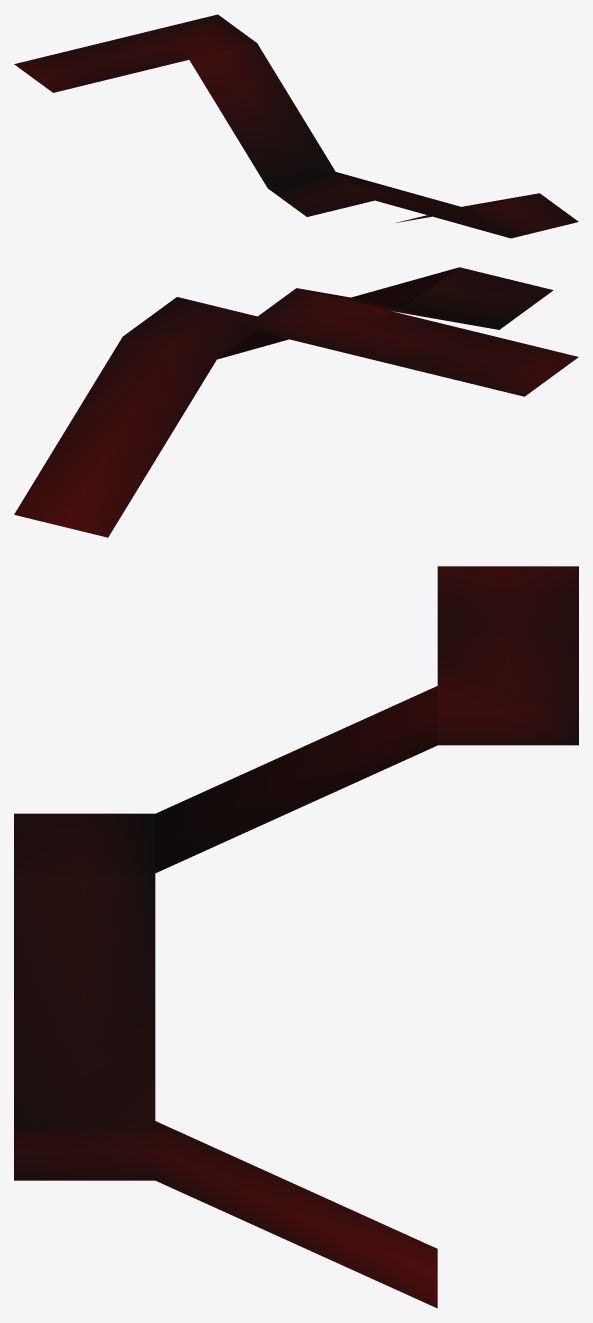
File: castle_yard_1_no_specular_stair_collision.glb
The picture shows the model from 3 angles, top to bottom: view 1: azimuth 30°, elevation 25°; view 2: azimuth 150°, elevation 25°; view 3: azimuth 270°, elevation 25°; orthographic projection. The views are drawn at different scales.
Parts seen in each view (by area): view 1: StairsCollision; view 2: StairsCollision; view 3: StairsCollision.
Boxes of the visible parts, x1,y1,x2,y2 form: StairsCollision: [14, 14, 578, 238]; StairsCollision: [14, 267, 578, 537]; StairsCollision: [14, 566, 578, 1308].
Size of the model in its own units: 12 by 6 by 8.
